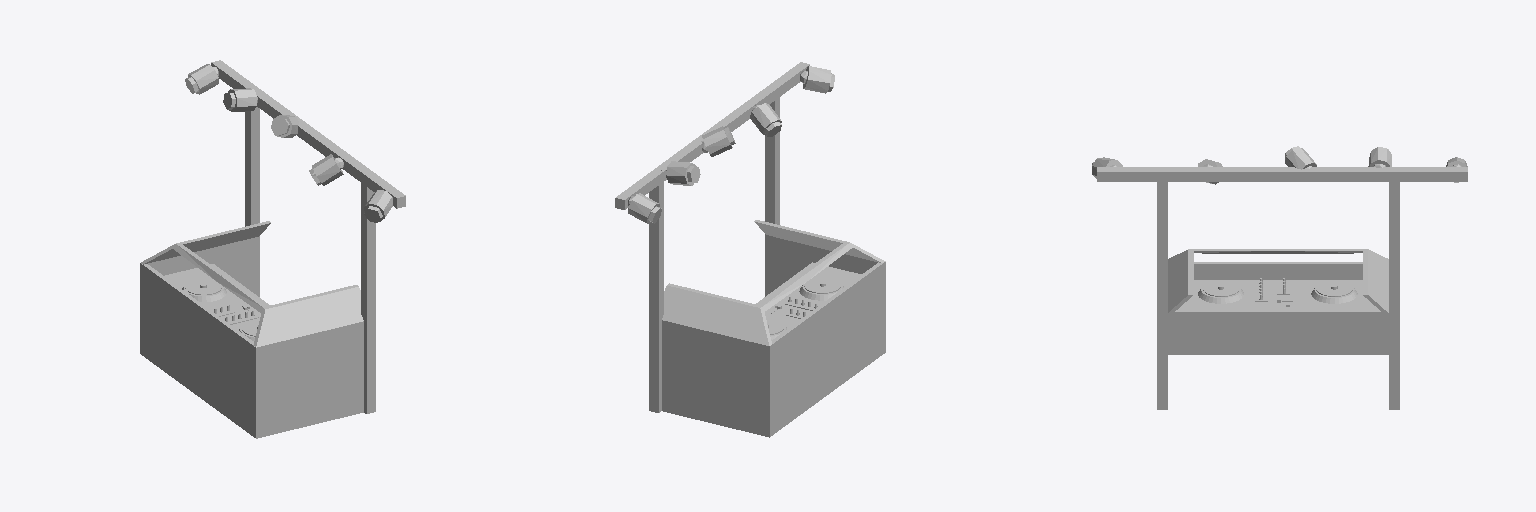
Rendered from djPanel.obj.
3 renders of one model, left to right at view 1: azimuth 30°, elevation 25°; view 2: azimuth 150°, elevation 25°; view 3: azimuth 270°, elevation 25°, orthographic.
Parts seen in each view (by area): view 1: Cube.009, Cube.002, Cube.001, Cube.010, Cylinder, Cylinder.003, Cylinder.001, Cylinder.004, Cylinder.002; view 2: Cube.009, Cube.002, Cube.001, Cube.010, Cylinder.004, Cylinder, Cylinder.003, Cylinder.001, Cylinder.002; view 3: Cube.009, Cube.002, Cube.010, Cube.001.
Part boxes in pixels (x1,y1,x2,y2): Cube.009: (140,221,363,438); Cube.002: (255,89,405,413); Cube.001: (211,60,259,296); Cube.010: (165,264,270,330); Cylinder: (185,64,218,94); Cylinder.003: (309,154,343,185); Cylinder.001: (223,88,257,111); Cylinder.004: (364,190,392,222); Cylinder.002: (271,115,298,137); Cube.009: (662,220,885,437); Cube.002: (655,62,809,296); Cube.001: (615,169,663,412); Cube.010: (756,262,861,328); Cylinder.004: (800,66,834,93); Cylinder: (628,193,661,223); Cylinder.003: (750,103,781,136); Cylinder.001: (666,161,700,185); Cylinder.002: (701,126,735,156); Cube.009: (1168,249,1388,354); Cube.002: (1097,167,1388,409); Cube.010: (1171,280,1385,315); Cube.001: (1389,167,1467,409).
Size of the model in its own units: 2.04 by 4.16 by 5.66.